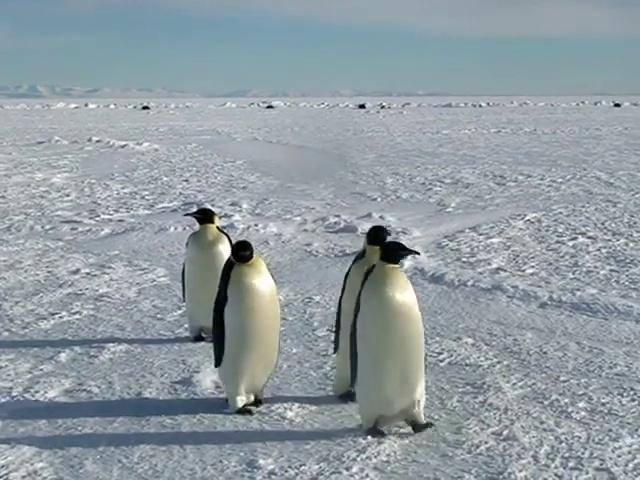animal: (352, 242, 435, 437)
